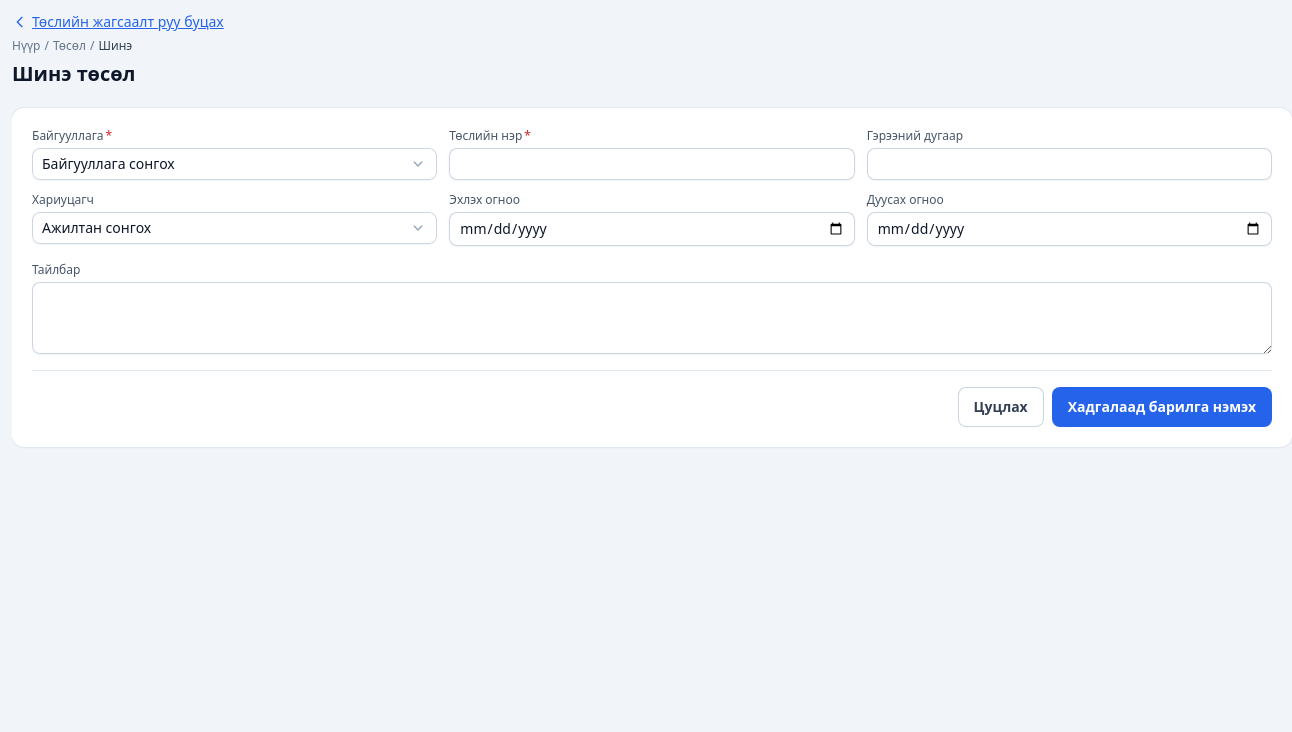
Test: ProjectFormPage › reports the date order rule instead of sending an impossible range
Select "Central Tower ХХК" in the dropdown labelled "Байгууллага*": (235,164) [32,148,437,180]
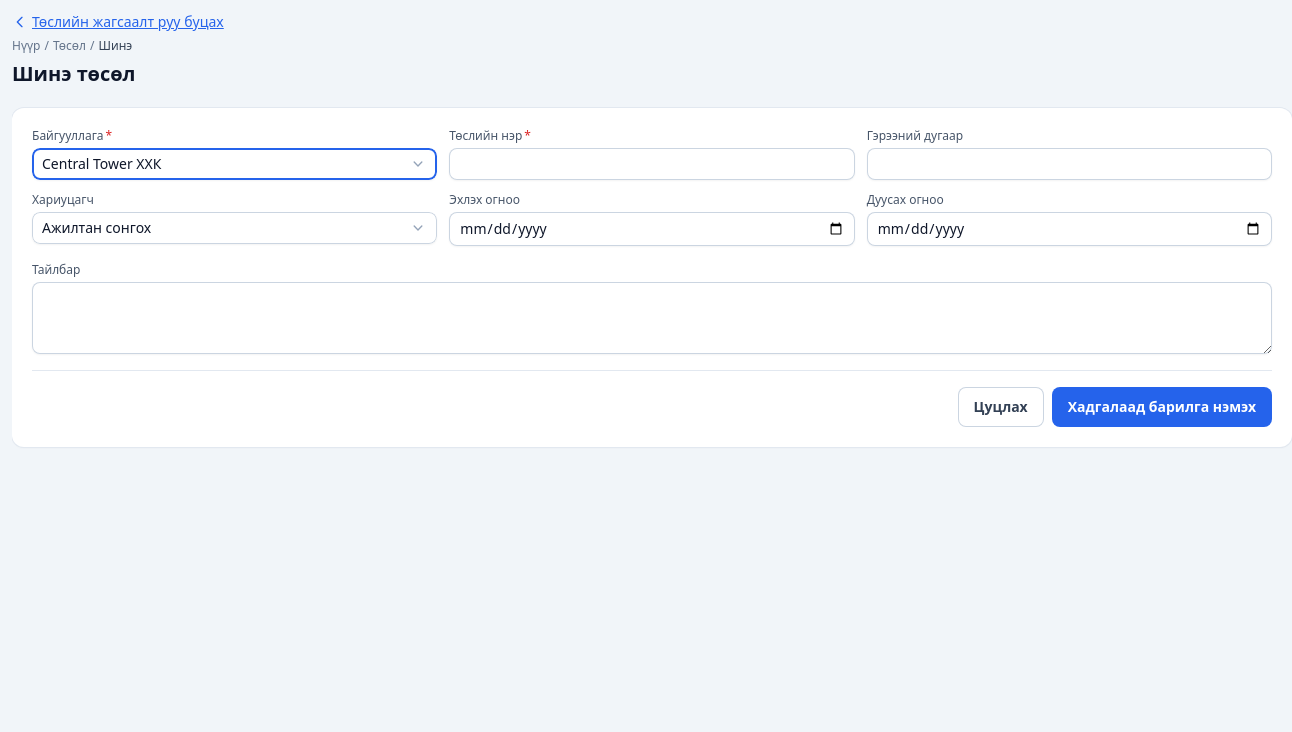
In the field labelled "Төслийн нэр*": (652,164) [449,148,855,180], type "Буруу огноо"
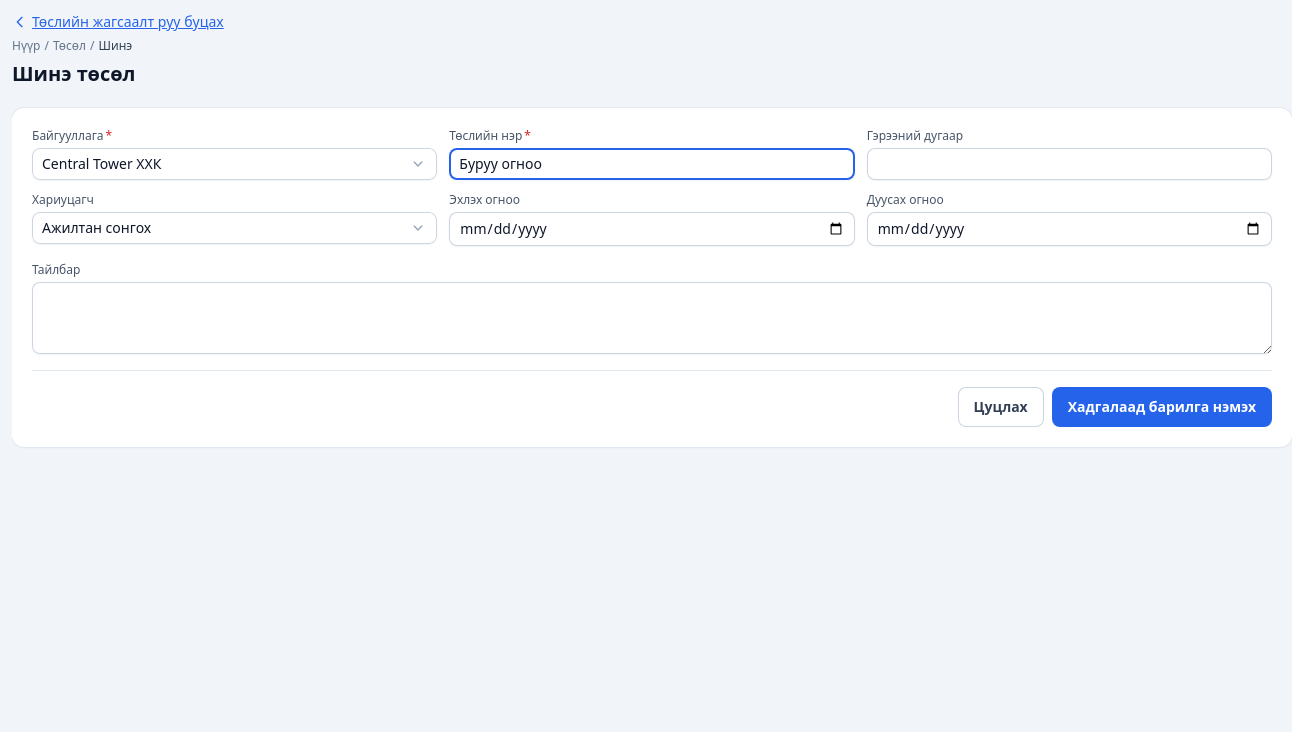
In the date field labelled "Эхлэх огноо": (652,229) [449,212,855,246], type "2026-11-30"
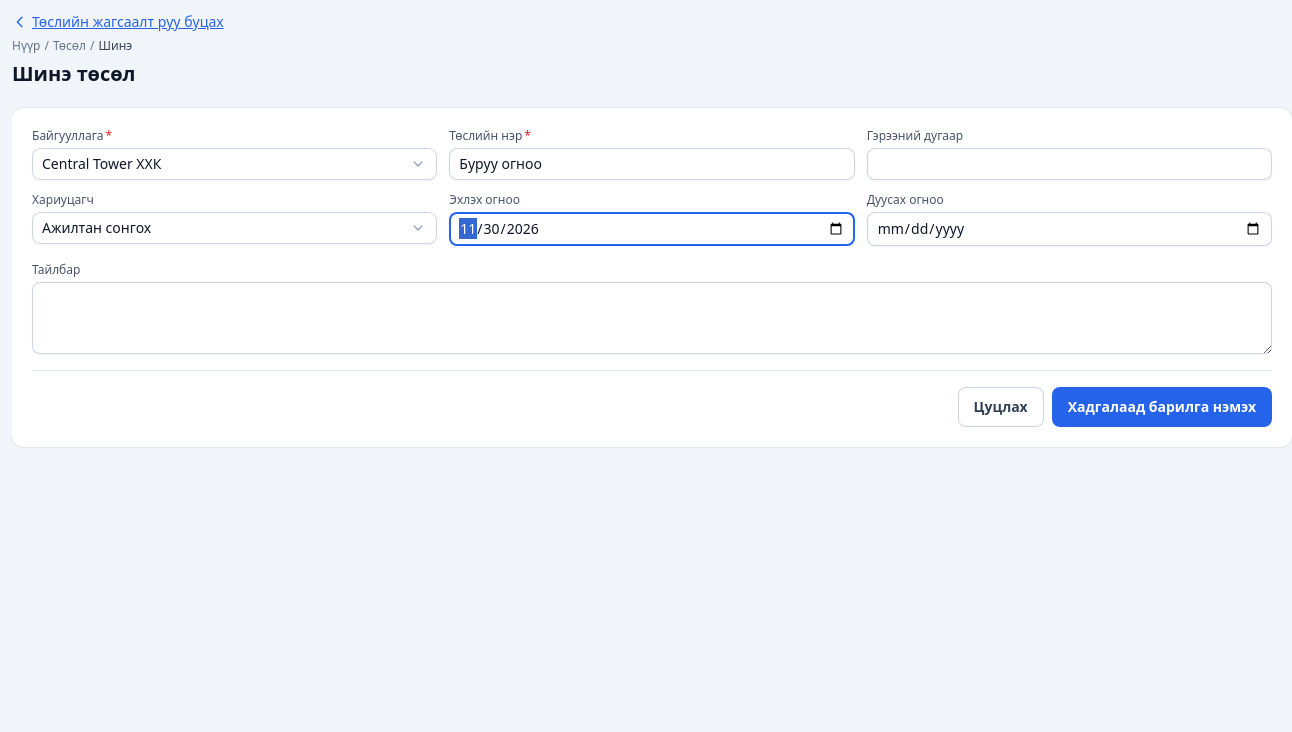
In the date field labelled "Дуусах огноо": (1069,229) [867,212,1272,246], type "2026-02-01"
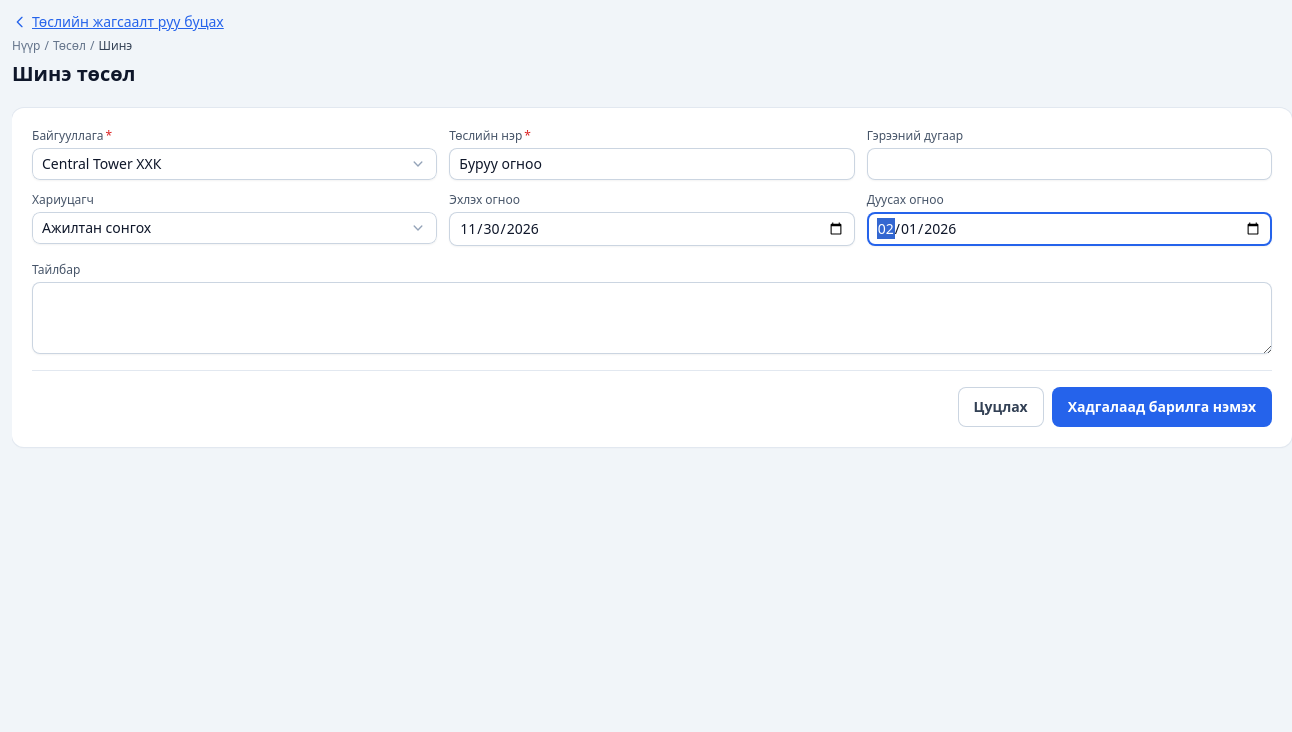
Click the button "Хадгалаад барилга нэмэх": (1162,407) [1052,387,1272,427]
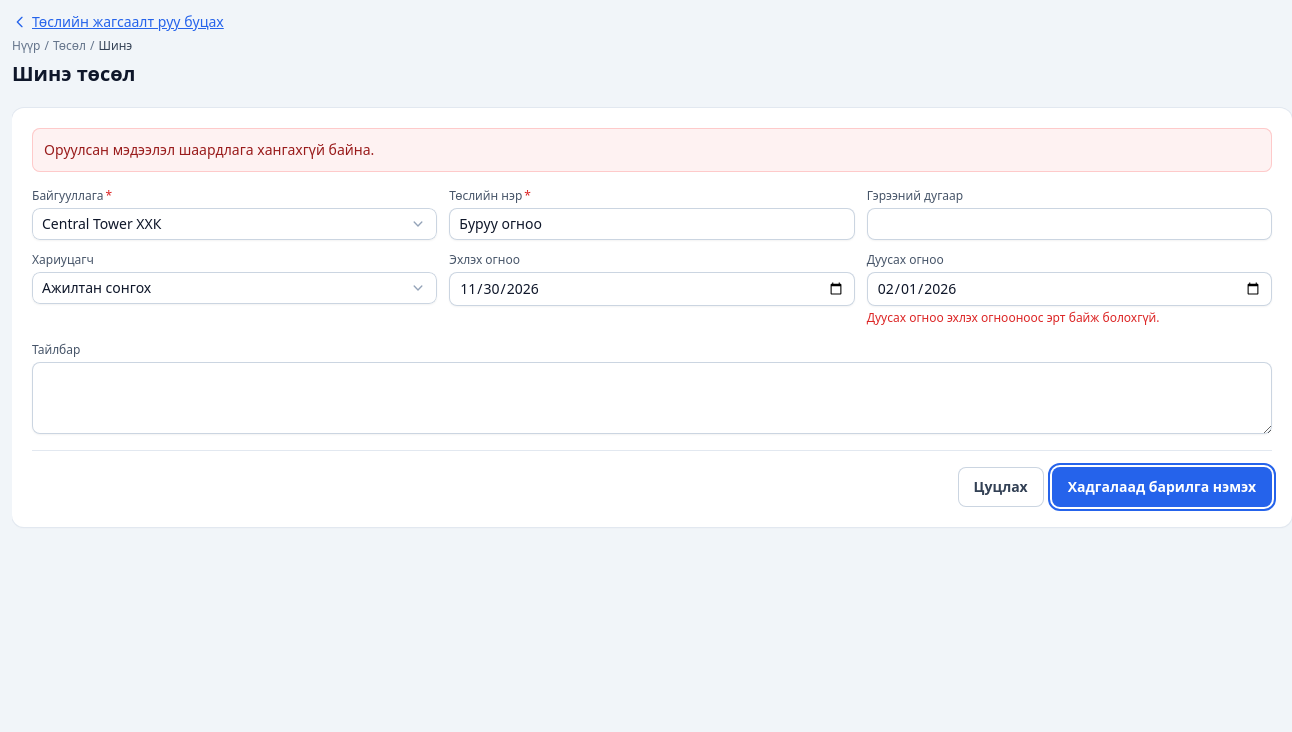
Expected: the text "Дуусах огноо эхлэх огнооноос эрт байж болохгүй." is shown, [867,309,1160,326]
